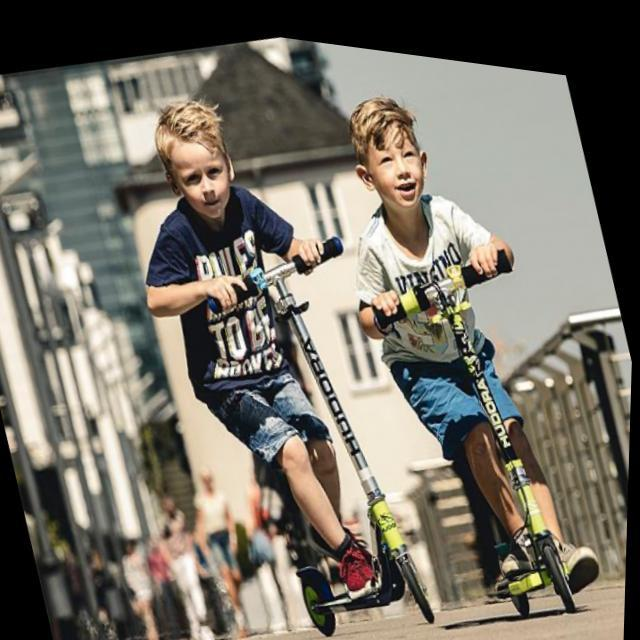Nonhelmet: (143, 93, 237, 227), (341, 87, 435, 213)
